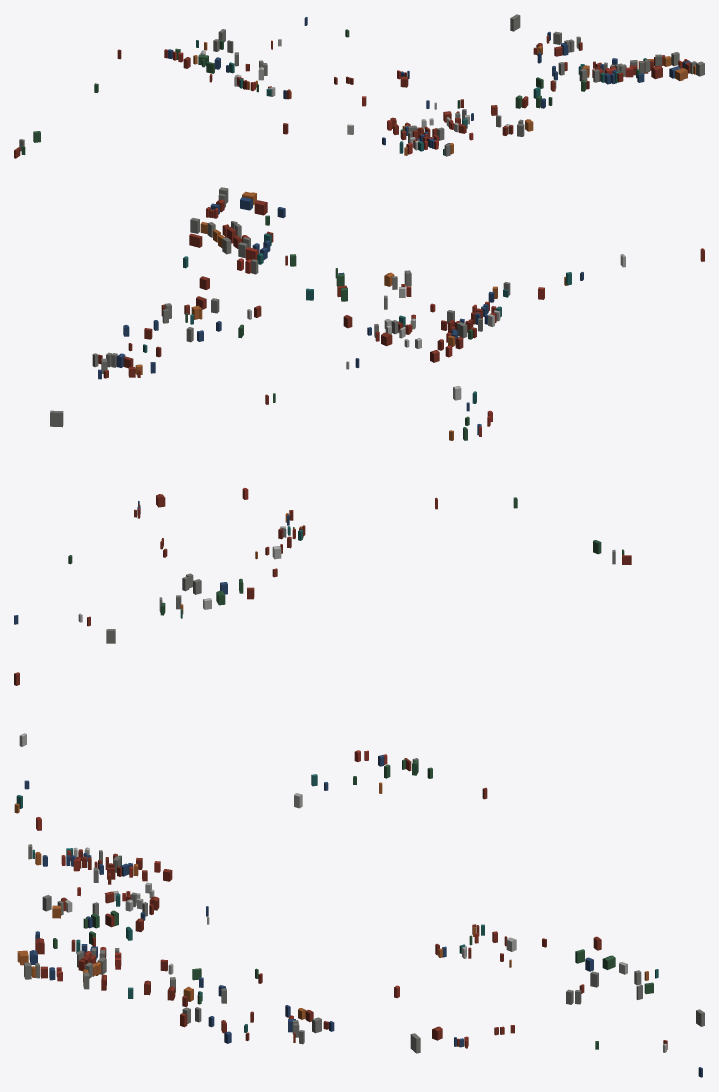
Rendered from near-15-27360-14863.46d95be5.glb.
3 views of the same model, one above another, from view 1: azimuth 30°, elevation 25°; view 2: azimuth 150°, elevation 25°; view 3: azimuth 270°, elevation 25° (orthographic). The views are drawn at different scales.
Bounding box in the file's own units: 1184 × 416 × 1154.
